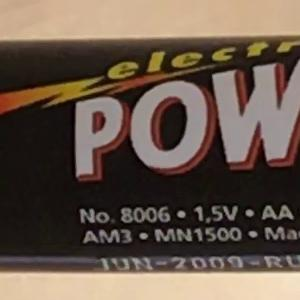1,5V: (186, 197, 247, 230)
